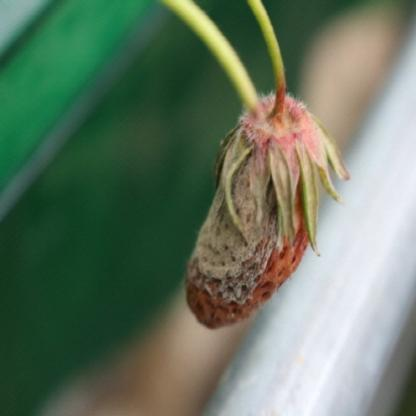Strawberry_Gray_Mold: (184, 84, 351, 328)
